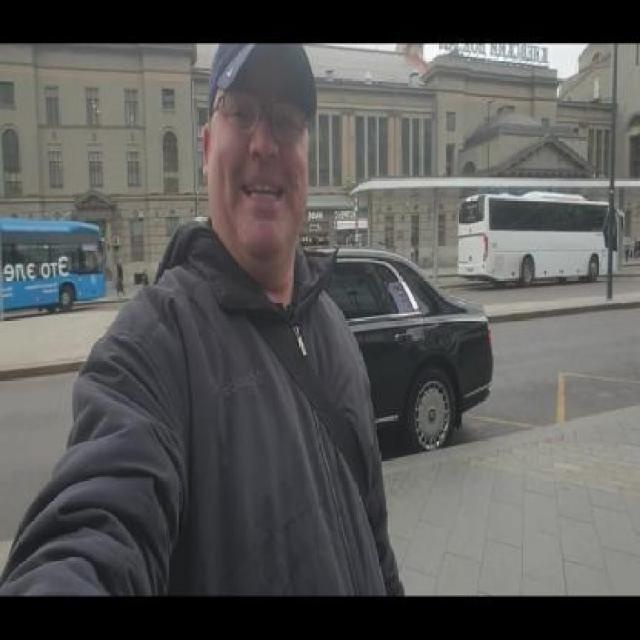bus: (446, 178, 624, 298), (0, 194, 134, 339)
car: (185, 239, 523, 473)
